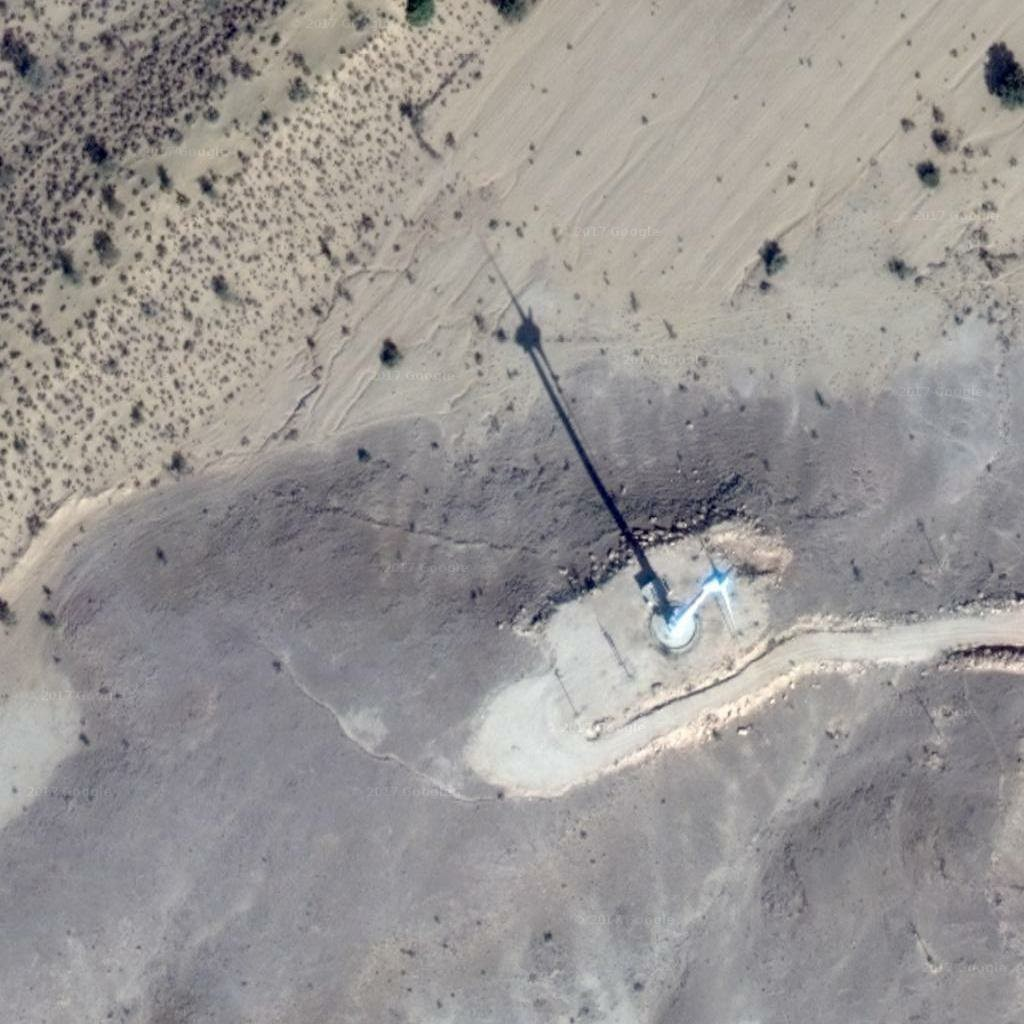Windmill: (473, 238, 681, 599)
